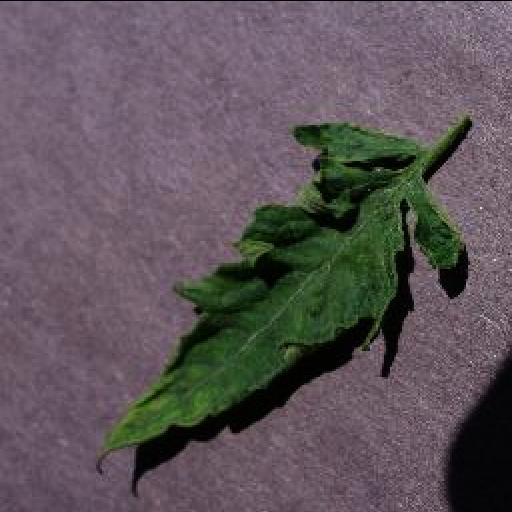disease_tomato: (94, 116, 462, 474)
